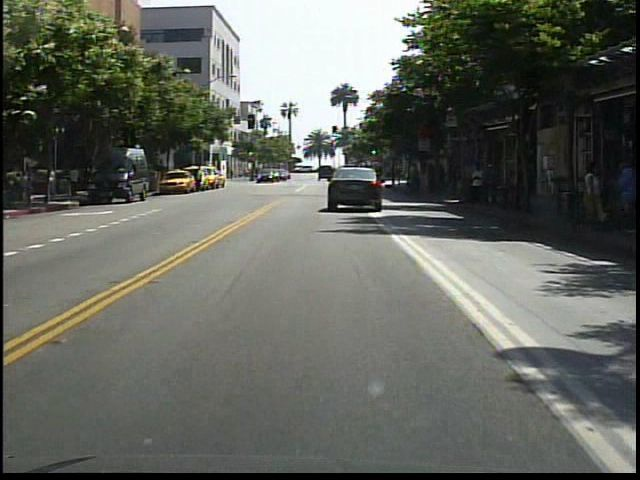person: (467, 162, 492, 216), (194, 163, 206, 196)
